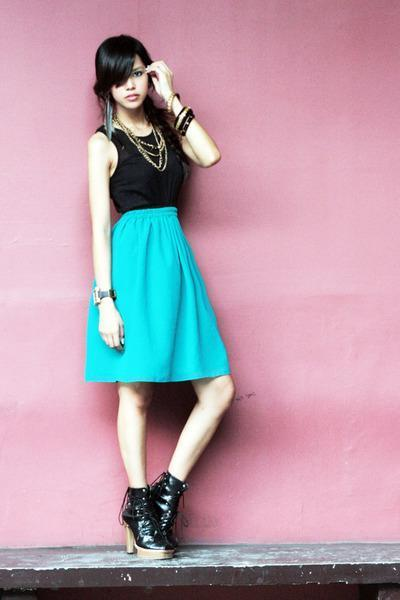skirt: (73, 209, 233, 387)
vest: (92, 112, 187, 217)
